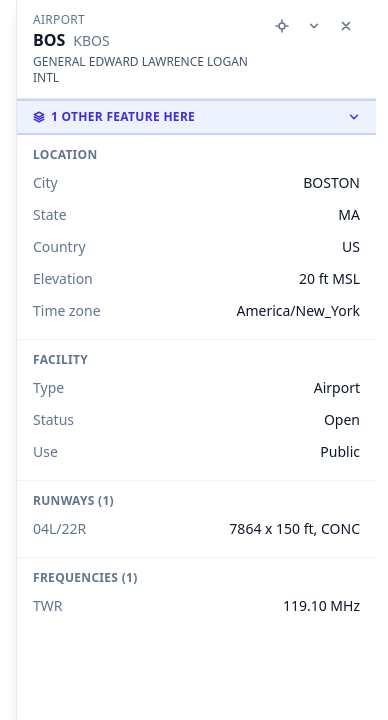
Test case: EntityInspector › deduplicates chips by encoded selection so two rings collapse to one
Click the button "1 other feature here".
click(196, 117)  # box [17,101,376,133]
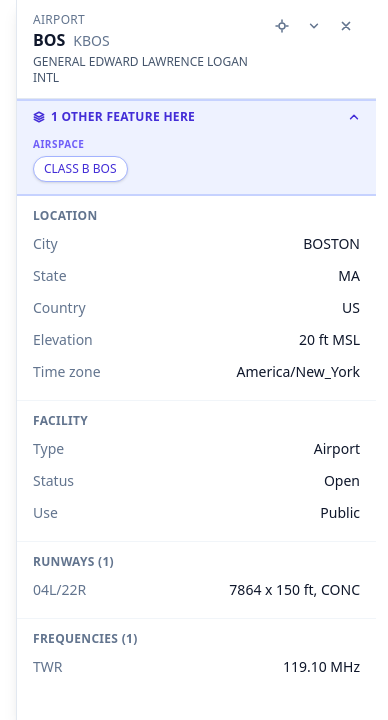
Expected: the number of buttons "CLASS B BOS" is 1, [33,156,128,182]
